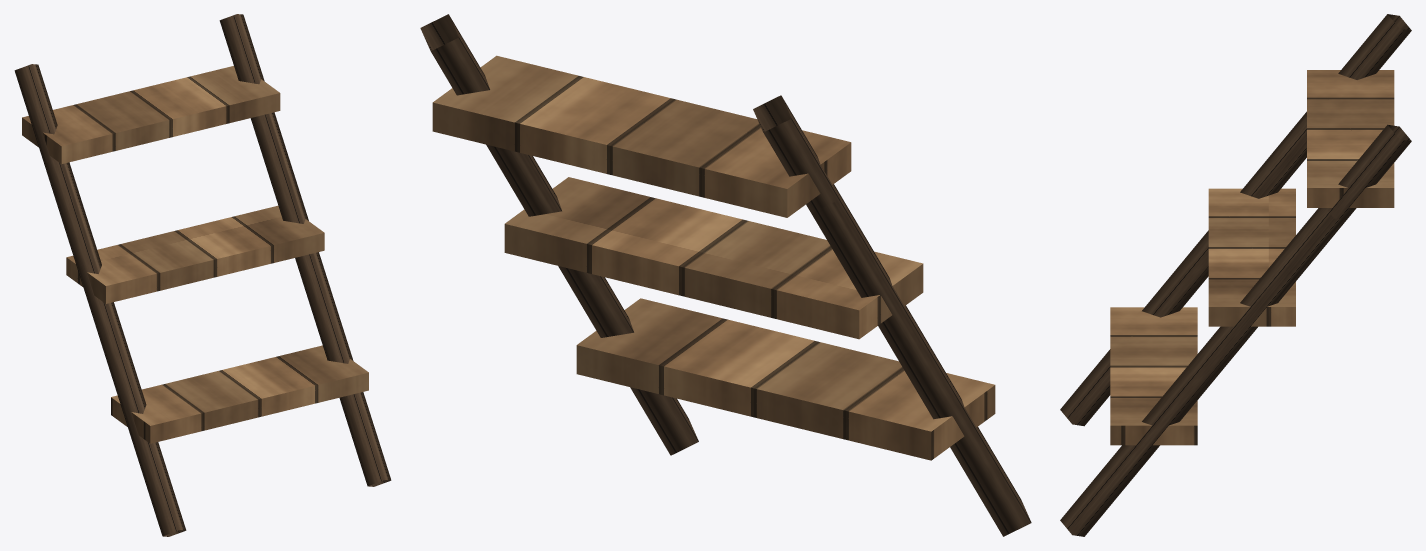
Rendered from Wagon_Steps_1.gltf.
3 renders of one model, left to right at view 1: azimuth 30°, elevation 25°; view 2: azimuth 150°, elevation 25°; view 3: azimuth 270°, elevation 25°, orthographic. The views are drawn at different scales.
Parts seen in each view (by area): view 1: Wagon_Steps_1; view 2: Wagon_Steps_1; view 3: Wagon_Steps_1.
Part boxes in pixels (box(x1,y1,x2,y2)): Wagon_Steps_1: box(14, 14, 391, 536); Wagon_Steps_1: box(420, 14, 1031, 536); Wagon_Steps_1: box(1060, 14, 1411, 536).
Bounding box in the file's own units: 0.67 × 1.04 × 0.806.
Materials: 2 (2 with a texture image).
